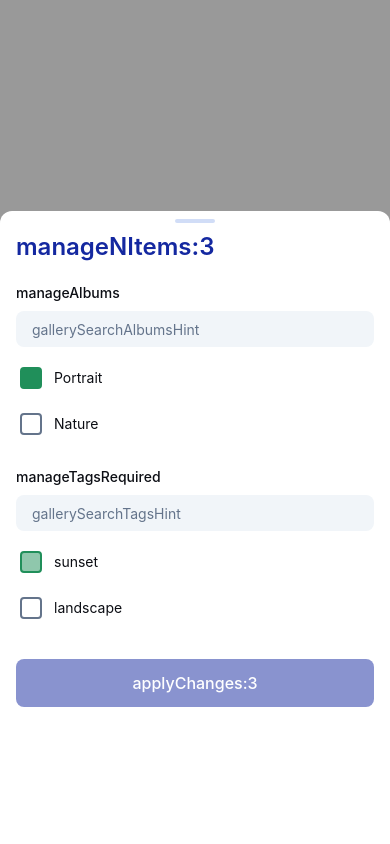
BulkManageSheet — inline tag create › shows tag create row when search has no exact match
Type "wildlife" into the field with test id "bulk-manage-tag-search". click: point(199, 513)
box: [32,495,366,531]
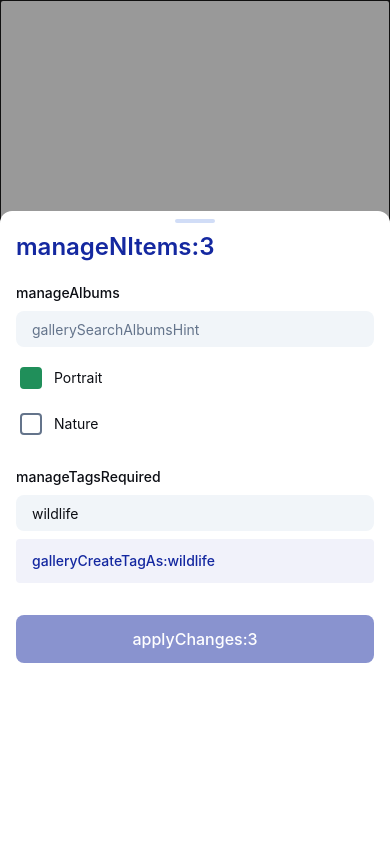
Check: the button with test id "bulk-manage-create-tag" is shown, box [16,539,374,583]
